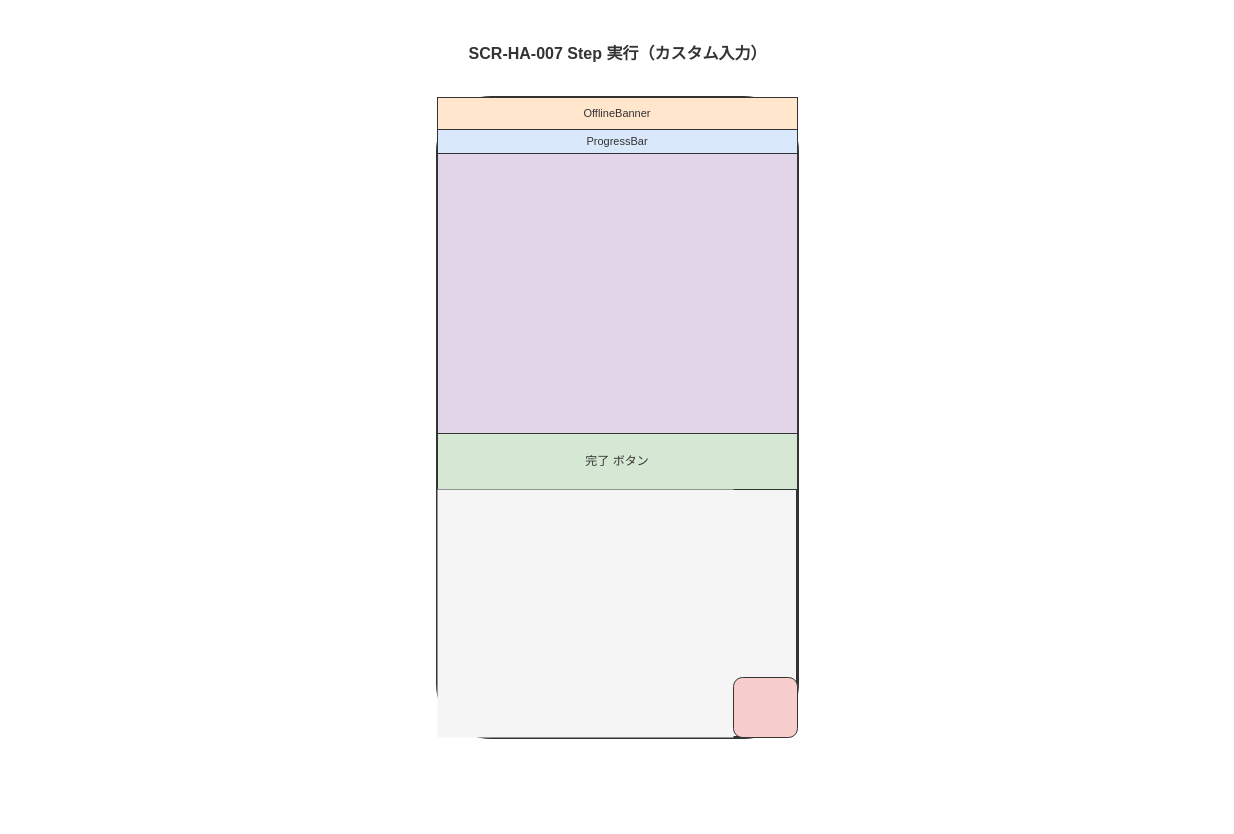
Some shapes in this 1234 by 834 pixel diagram are drawn without their labels. Here are the shapes that lost their labels. From the top down, the centre of each, then its label:
At (x=617, y=293): "カスタム StepCard (JSON Logic) 入力フォーム フィールド 1: ___ フィールド 2: ___".
At (x=765, y=707): "Andon (右下固定)".
